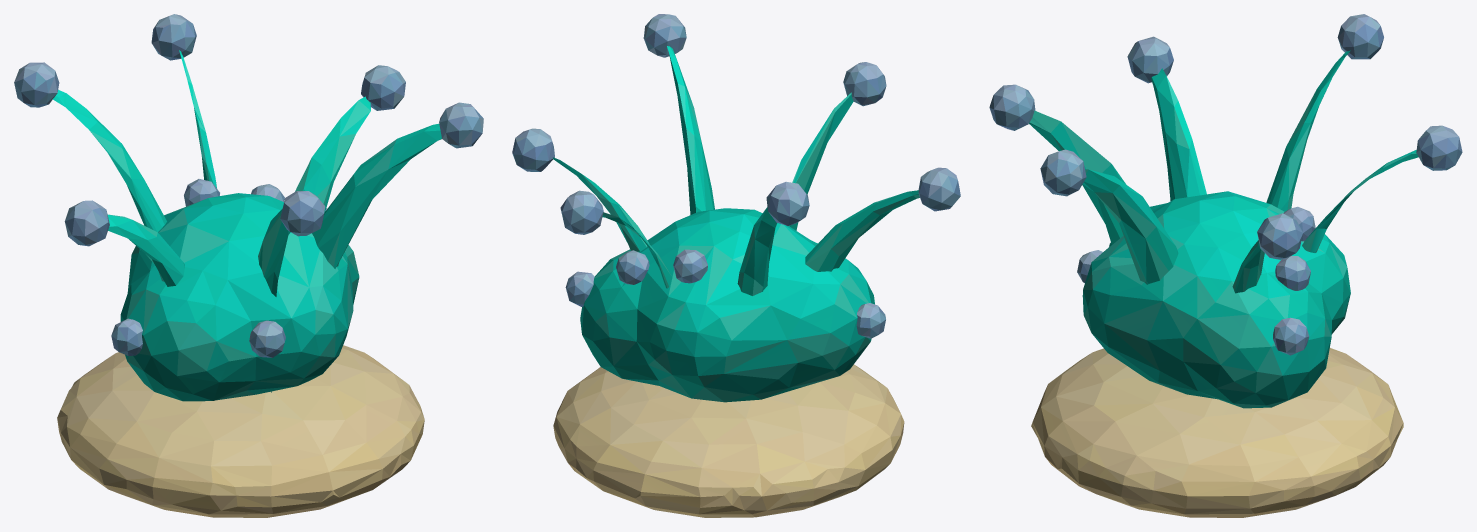
File: Leviathan_Berry_Bush.glb
The picture shows the model from 3 angles, left to right: view 1: azimuth 30°, elevation 25°; view 2: azimuth 150°, elevation 25°; view 3: azimuth 270°, elevation 25°; orthographic projection. The views are drawn at different scales.
Parts seen in each view (by area): view 1: Leviathan_Berry_Bush; view 2: Leviathan_Berry_Bush; view 3: Leviathan_Berry_Bush.
Boxes of the visible parts, x1,y1,x2,y2 form: Leviathan_Berry_Bush: [14, 14, 483, 517]; Leviathan_Berry_Bush: [512, 14, 960, 517]; Leviathan_Berry_Bush: [989, 14, 1462, 517].
Size of the model in its own units: 4.17 by 3.94 by 4.27.
